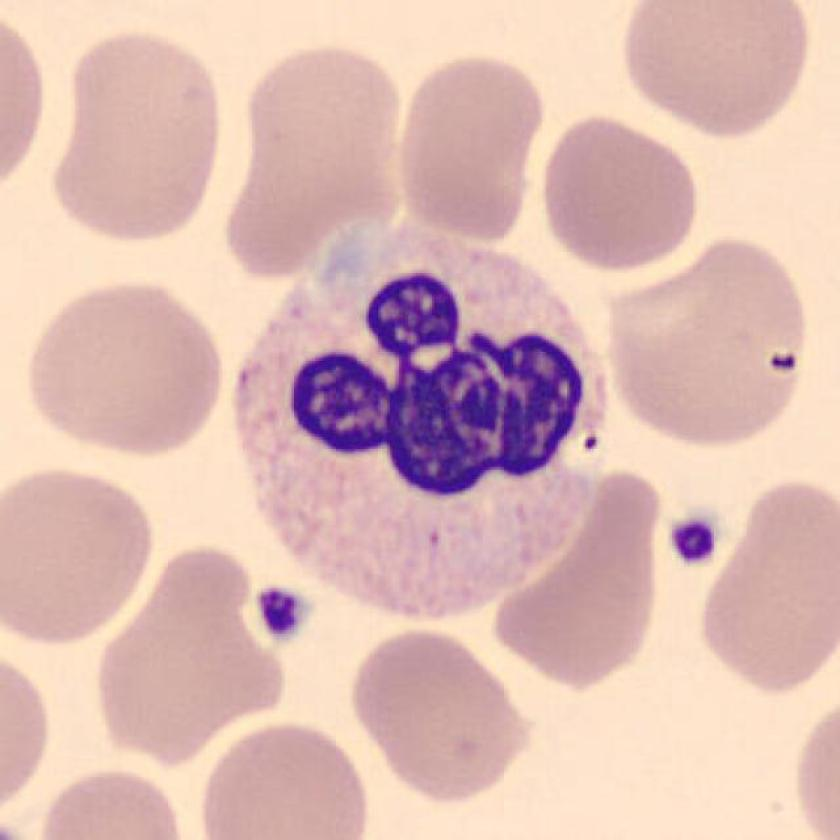neutrophil: (237, 219, 609, 616)
